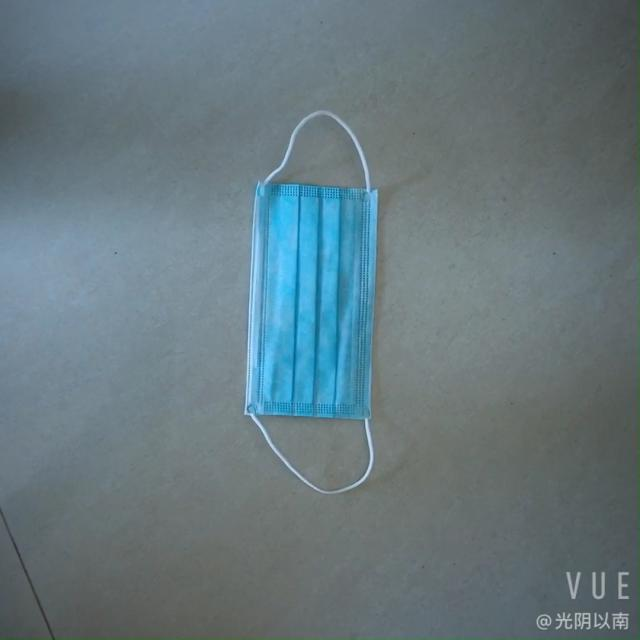non-organic waste: (230, 168, 387, 445)
